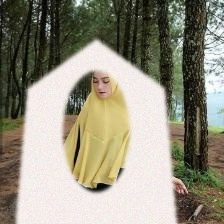Mukena: (11, 49, 181, 224)
